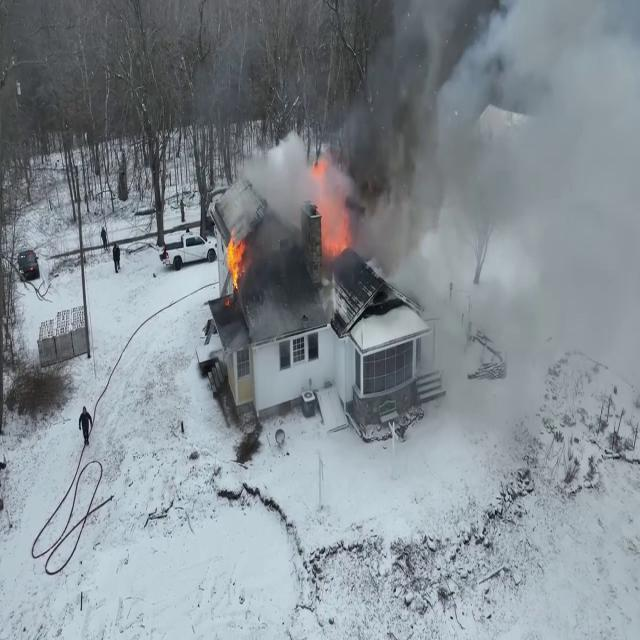Fire: (306, 159, 356, 259), (224, 221, 248, 293)
Smoke: (335, 0, 640, 292), (336, 1, 470, 285), (246, 126, 318, 237)
